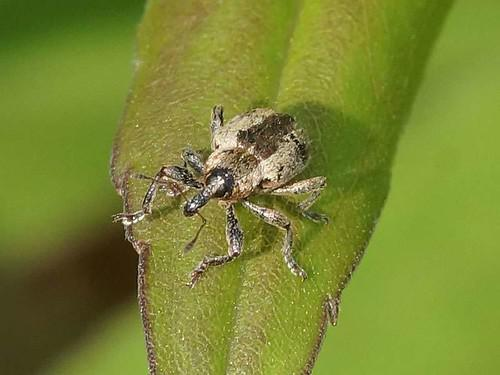weevils: (96, 68, 366, 307)
